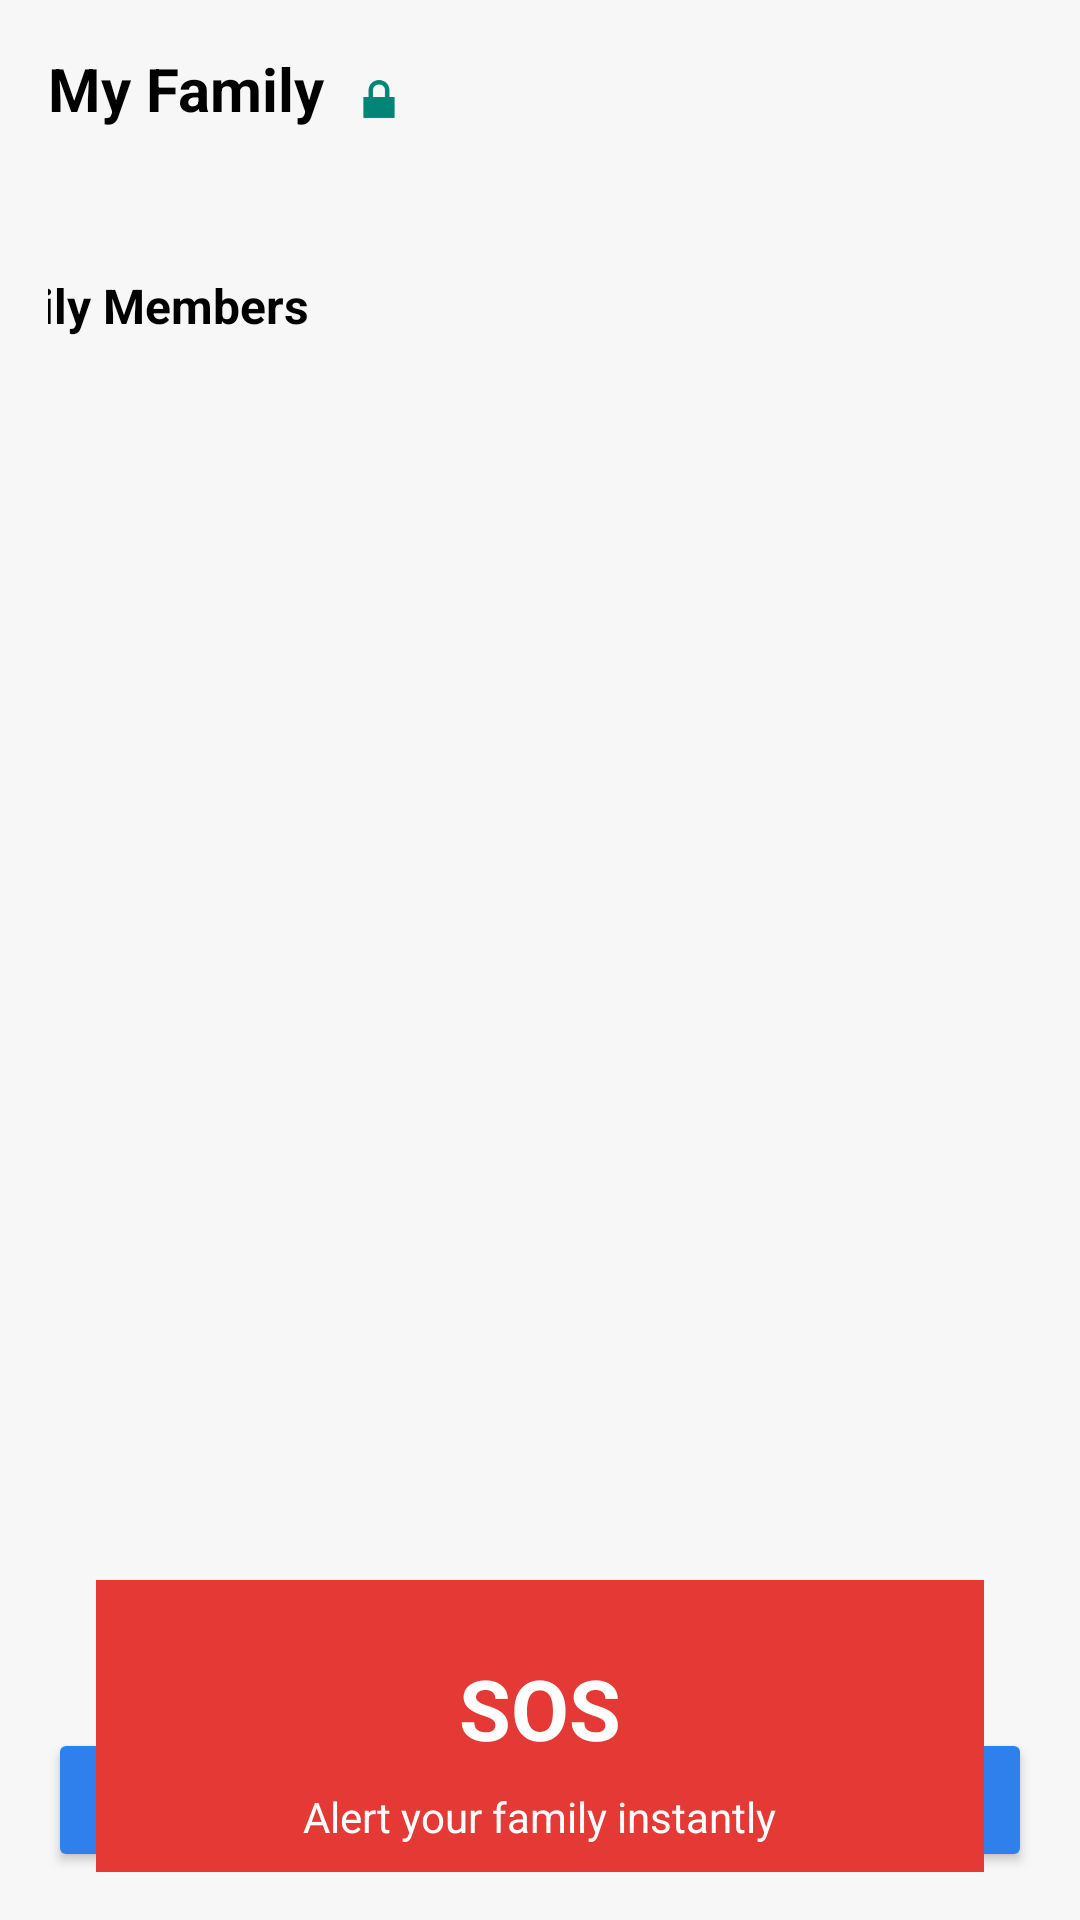

Point at icon controls on the screen. Image size 1080×1920, points as (x=x, y=y).
Private: (x=379, y=99)
